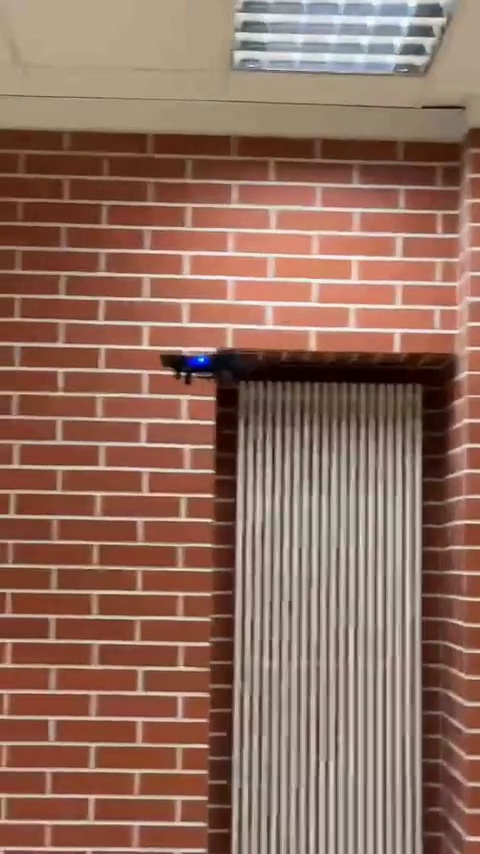drone: (153, 349, 243, 378)
